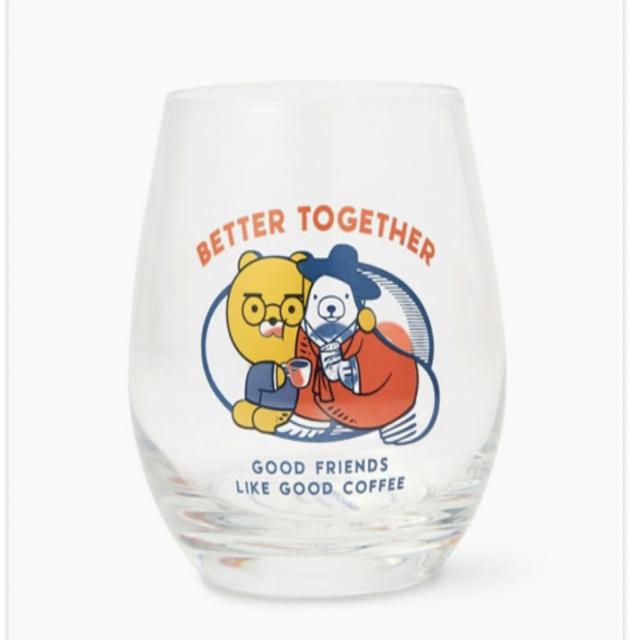recyclable: (112, 57, 544, 620)
